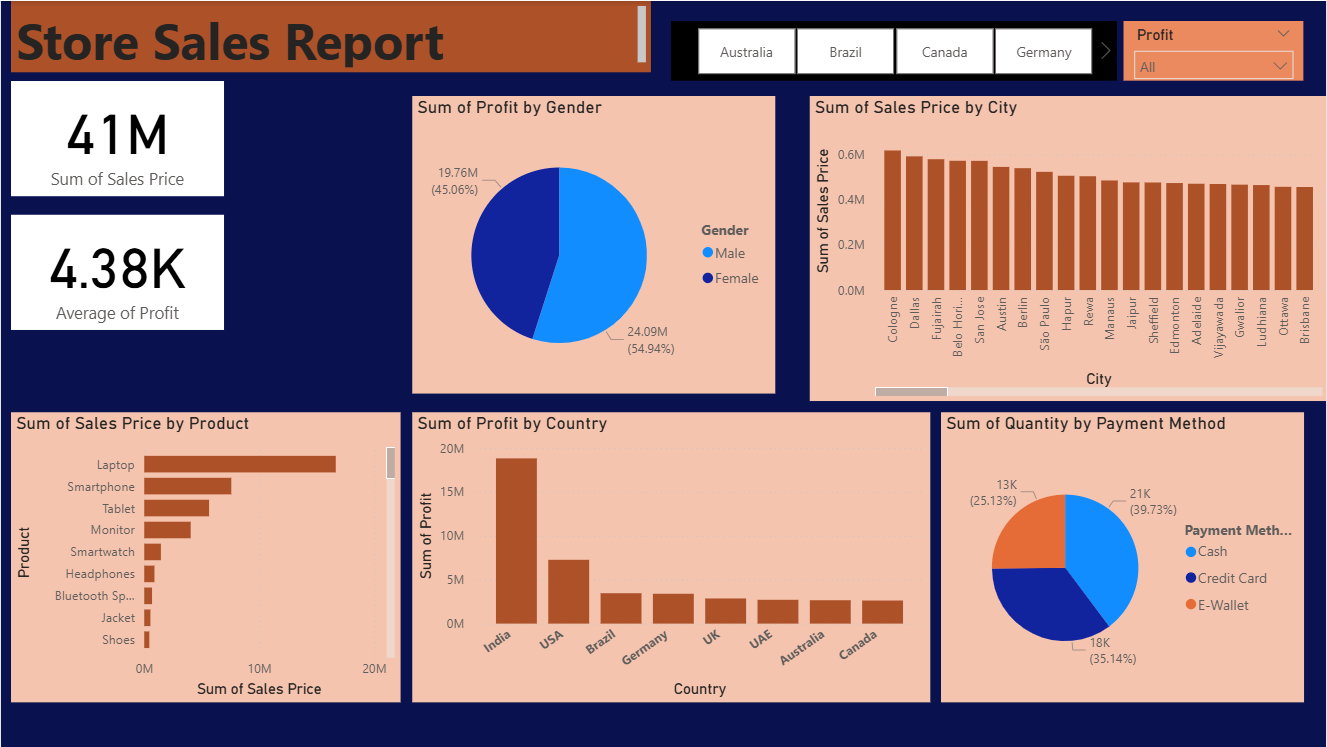

The dashboard page shown, as its layout file describes it:
{"tool":"powerbi","page":{"name":"Page 1","canvas":[1280,720],"ordinal":0},"visuals":[{"type":"textbox","box":[9.6,0,617.5,68.6],"z":0},{"type":"pieChart","fields":{"Category":["Total-Supermarket-Sales.Gender"],"Y":["Sum(Total-Supermarket-Sales.Profit)"]},"box":[397.1,91.4,350,287.1],"z":1000},{"type":"columnChart","fields":{"Category":["Total-Supermarket-Sales.City"],"Y":["Sum(Total-Supermarket-Sales.Sales Price)"]},"box":[780,91.4,500,294.3],"z":2000},{"type":"columnChart","fields":{"Category":["Total-Supermarket-Sales.Country"],"Y":["Sum(Total-Supermarket-Sales.Profit)"]},"box":[397.1,397.1,500,280],"z":3000},{"type":"pieChart","fields":{"Y":["Sum(Total-Supermarket-Sales.Quantity)"],"Category":["Total-Supermarket-Sales.Payment Method"]},"box":[907.1,397.1,350,280],"z":4000},{"type":"card","fields":{"Values":["Sum(Total-Supermarket-Sales.Sales Price)"]},"box":[10,77.1,205.7,111.4],"z":5000},{"type":"card","fields":{"Values":["Avg(Total-Supermarket-Sales.Profit)"]},"box":[10,205.7,205.7,111.4],"z":6000},{"type":"barChart","fields":{"Category":["Total-Supermarket-Sales.Product"],"Y":["Sum(Total-Supermarket-Sales.Sales Price)"]},"box":[10,397.1,375.7,280],"z":7000},{"type":"slicer","fields":{"Values":["Total-Supermarket-Sales.Country"]},"box":[646.7,19.3,430.7,57.9],"z":8000},{"type":"slicer","fields":{"Values":["Total-Supermarket-Sales.Profit"]},"box":[1083.4,19.3,173.7,57.9],"z":9000}]}

Visuals, with their boxes in screenshot pixels (x1, y1, x2, y2), scaled from the page's 1280x720 canvas onto the 1327x747 screenshot:
textbox: 10:0:650:71
pieChart - Total-Supermarket-Sales.Gender x Sum(Total-Supermarket-Sales.Profit): 412:95:775:393
columnChart - Total-Supermarket-Sales.City x Sum(Total-Supermarket-Sales.Sales Price): 809:95:1326:400
columnChart - Total-Supermarket-Sales.Country x Sum(Total-Supermarket-Sales.Profit): 412:412:930:702
pieChart - Sum(Total-Supermarket-Sales.Quantity) x Total-Supermarket-Sales.Payment Method: 940:412:1303:702
card - Sum(Total-Supermarket-Sales.Sales Price): 10:80:224:196
card - Avg(Total-Supermarket-Sales.Profit): 10:213:224:329
barChart - Total-Supermarket-Sales.Product x Sum(Total-Supermarket-Sales.Sales Price): 10:412:400:702
slicer - Total-Supermarket-Sales.Country: 670:20:1117:80
slicer - Total-Supermarket-Sales.Profit: 1123:20:1303:80
